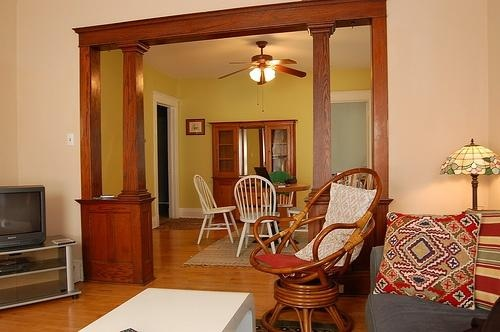chair: (249, 168, 383, 332), (234, 176, 281, 258), (194, 175, 239, 244)
tvmonitor: (1, 186, 47, 250)
